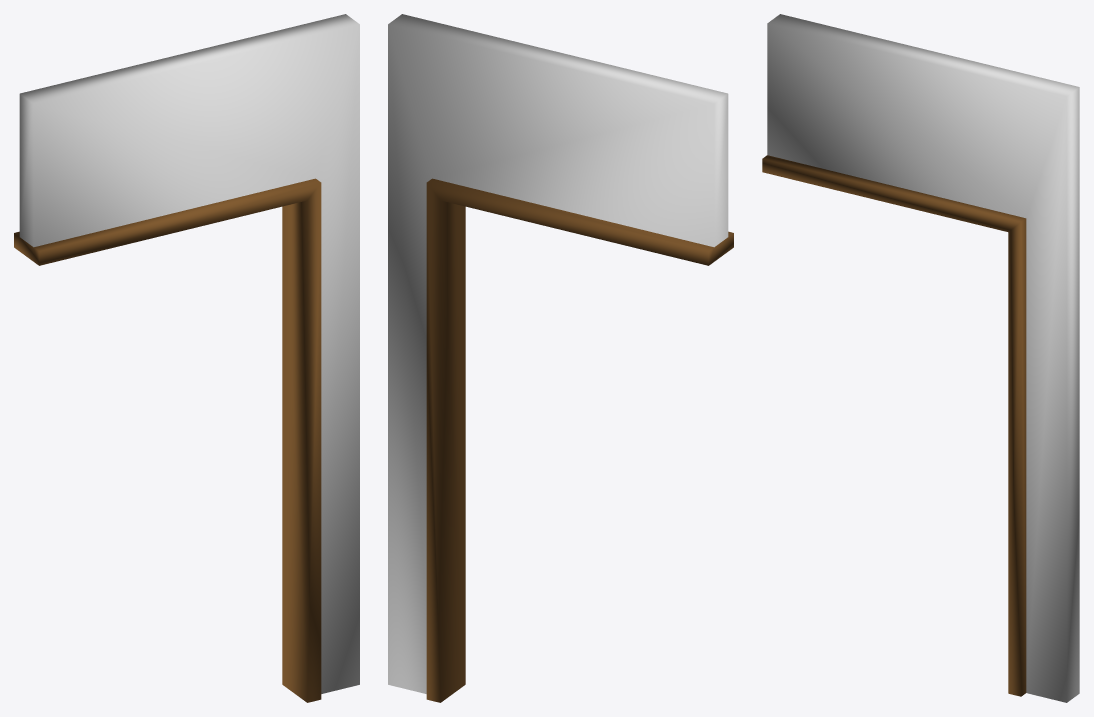
File: Wall Doorway Start.fbx
3 renders of one model, left to right at view 1: azimuth 30°, elevation 25°; view 2: azimuth 150°, elevation 25°; view 3: azimuth 330°, elevation 25°, orthographic. The views are drawn at different scales.
Parts seen in each view (by area): view 1: wallDoorwayStart.002; view 2: wallDoorwayStart.002; view 3: wallDoorwayStart.002.
Boxes of the visible parts, x1=… form: wallDoorwayStart.002: x1=14, y1=14, x2=359, y2=702; wallDoorwayStart.002: x1=388, y1=14, x2=733, y2=702; wallDoorwayStart.002: x1=762, y1=14, x2=1079, y2=702.
Bounding box in the file's own units: 0.1337 × 1.93 × 1.
